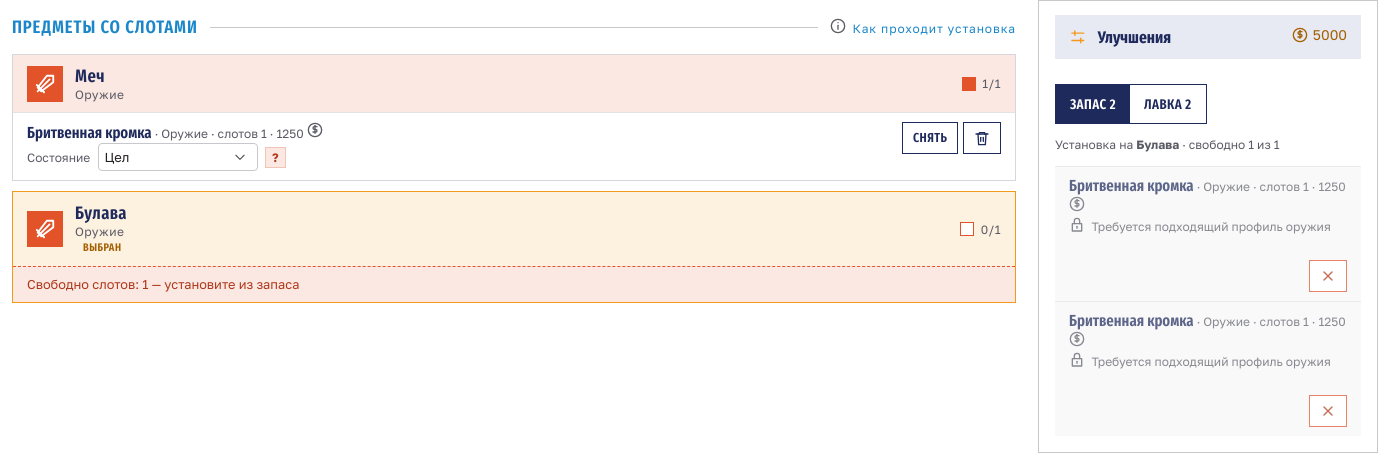
Scenario: Улучшения предметов (SHEET-02) › показывает причину нехватки слотов и уже установленного улучшения
Click the button "Меч Оружие 1/1".
click(45, 84)  # box x1=13 y1=55 x2=1015 y2=112
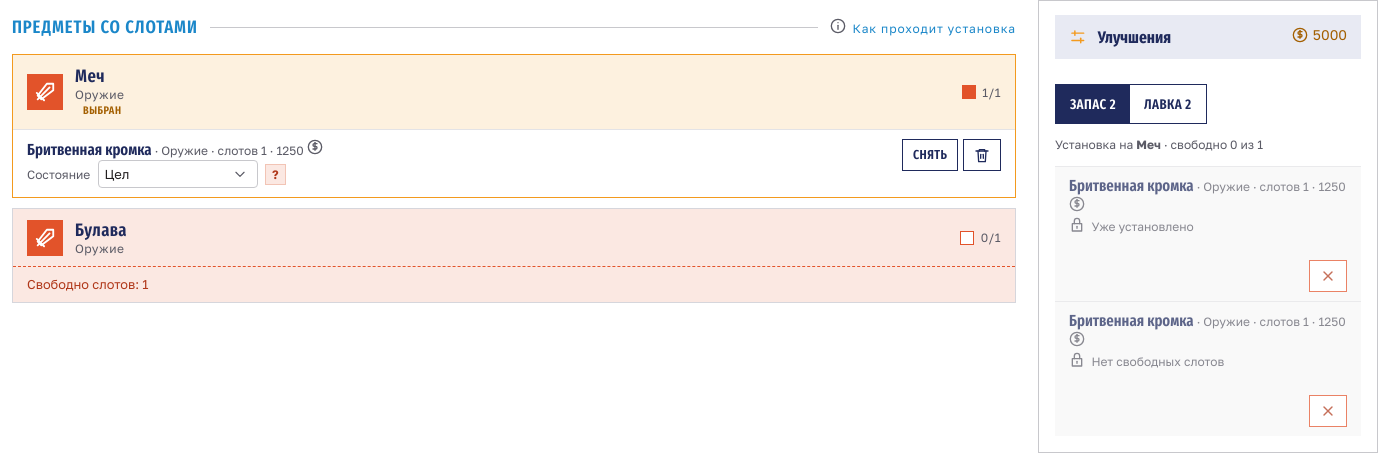
Result: the text "Уже установлено" is shown at x1=1069 y1=217 x2=1194 y2=234
Result: the text "Нет свободных слотов" is shown at x1=1069 y1=352 x2=1224 y2=370
